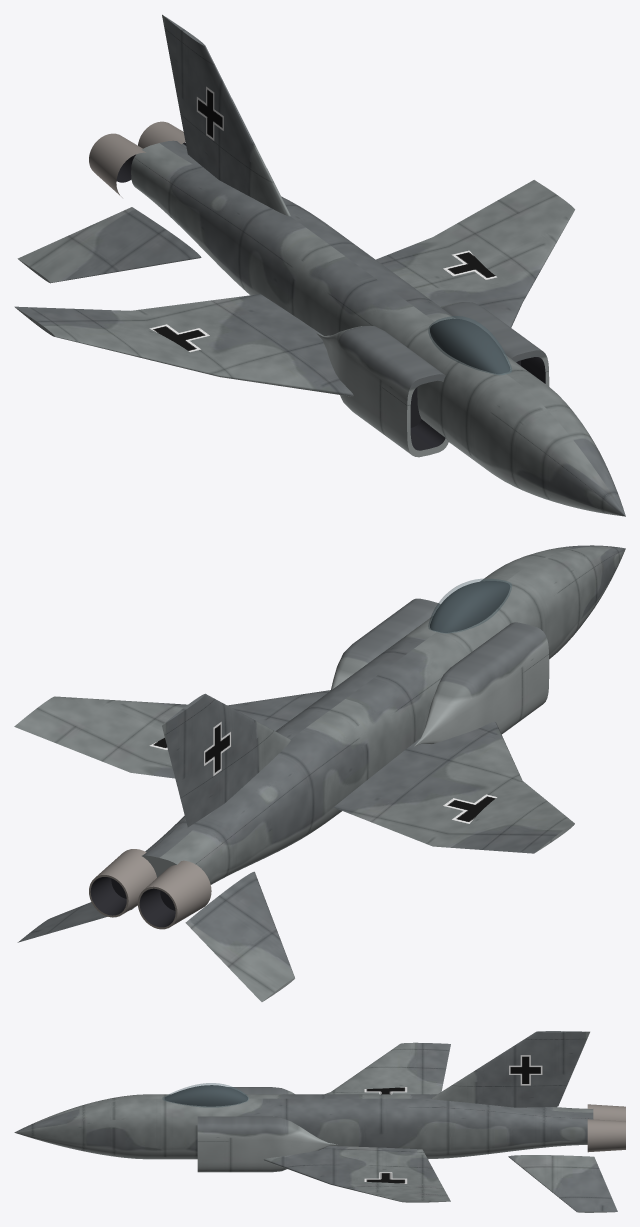
The model's file is 26_WestGer_F4.glb.
3 views of the same model, one above another, from view 1: azimuth 30°, elevation 25°; view 2: azimuth 150°, elevation 25°; view 3: azimuth 270°, elevation 25° (orthographic). The views are drawn at different scales.
Parts seen in each view (by area): view 1: Fuselage, Wing0_R, Wing0_L, Intake_R, Fin2, Htail1_R, Canopy, Cockpit, Intake_L, Nozzle_R, Nozzle_L, Decal_Fin_a (+2 smaller); view 2: Fuselage, Wing0_R, Wing0_L, Intake_R, Fin2, Htail1_R, Nozzle_R, Canopy, Nozzle_L, Intake_L, Cockpit, Htail1_L (+2 smaller); view 3: Fuselage, Fin2, Wing0_L, Intake_L, Wing0_R, Htail1_L, Canopy, Cockpit, Nozzle_L, Decal_Fin_b, Nozzle_R, Intake_R (+1 smaller).
Boxes of the visible parts, <box> form: Fuselage: <box>131,140,625,516</box>; Wing0_R: <box>14,294,353,396</box>; Wing0_L: <box>376,180,574,327</box>; Intake_R: <box>316,326,448,457</box>; Fin2: <box>162,14,290,216</box>; Htail1_R: <box>17,207,201,283</box>; Canopy: <box>428,316,511,374</box>; Cockpit: <box>430,318,510,373</box>; Intake_L: <box>441,302,549,386</box>; Nozzle_R: <box>89,133,145,197</box>; Nozzle_L: <box>138,121,186,148</box>; Decal_Fin_a: <box>196,86,223,140</box>; Fuselage: <box>142,545,625,884</box>; Wing0_R: <box>333,721,574,853</box>; Wing0_L: <box>14,690,330,778</box>; Intake_R: <box>414,622,549,746</box>; Fin2: <box>162,693,290,827</box>; Htail1_R: <box>185,871,294,1001</box>; Nozzle_R: <box>137,860,211,929</box>; Canopy: <box>428,579,511,633</box>; Nozzle_L: <box>89,849,156,917</box>; Intake_L: <box>331,598,440,690</box>; Cockpit: <box>430,581,510,632</box>; Htail1_L: <box>17,902,134,942</box>; Fuselage: <box>14,1094,593,1159</box>; Fin2: <box>431,1031,589,1107</box>; Wing0_L: <box>264,1146,450,1202</box>; Intake_L: <box>197,1116,337,1172</box>; Wing0_R: <box>325,1042,450,1094</box>; Htail1_L: <box>508,1155,617,1212</box>; Canopy: <box>162,1083,248,1107</box>; Cockpit: <box>164,1085,247,1106</box>; Nozzle_L: <box>587,1119,625,1152</box>; Decal_Fin_b: <box>509,1055,542,1085</box>; Nozzle_R: <box>587,1104,625,1121</box>; Intake_R: <box>228,1087,294,1094</box>.
Size of the model in its own units: 11.7 by 4.99 by 19.2.
6 materials, 2 textured.
